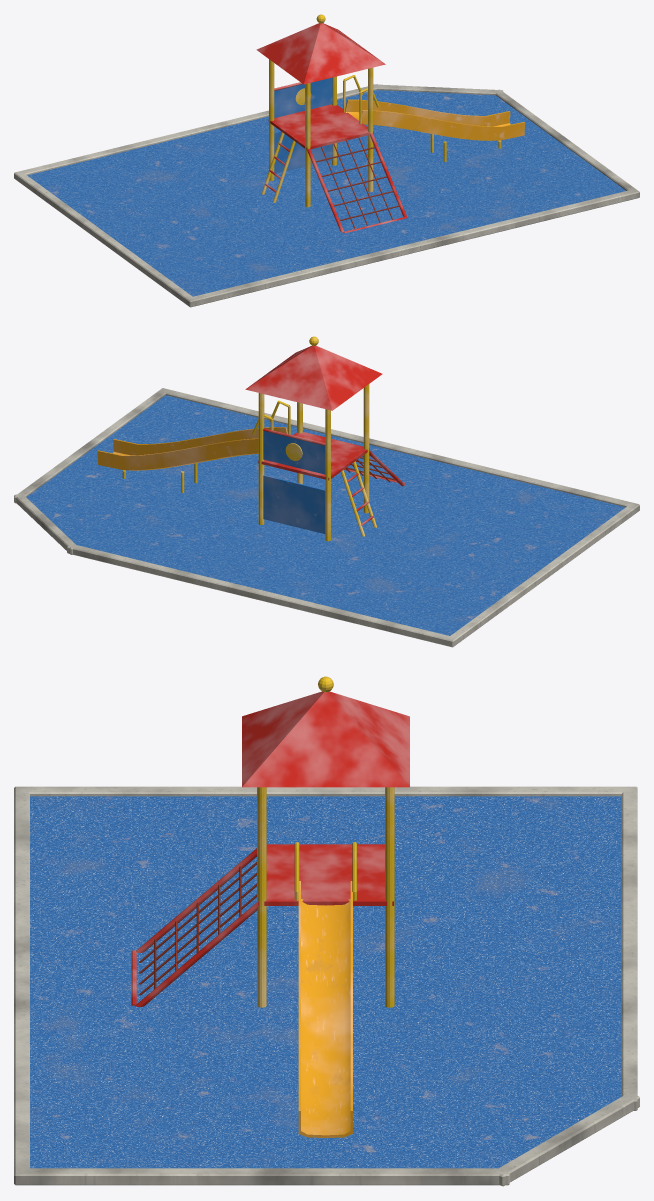
File: PlayTower.gltf
3 views of the same model, one above another, from view 1: azimuth 30°, elevation 25°; view 2: azimuth 150°, elevation 25°; view 3: azimuth 270°, elevation 25° (orthographic). The views are drawn at different scales.
Parts seen in each view (by area): view 1: PlayTower; view 2: PlayTower; view 3: PlayTower.
Boxes of the visible parts, x1=… form: PlayTower: x1=14, y1=14, x2=639, y2=307; PlayTower: x1=14, y1=336, x2=639, y2=647; PlayTower: x1=14, y1=676, x2=639, y2=1186.
Bounding box in the file's own units: 11.53 × 4.34 × 7.83.
7 materials, 7 textured.
